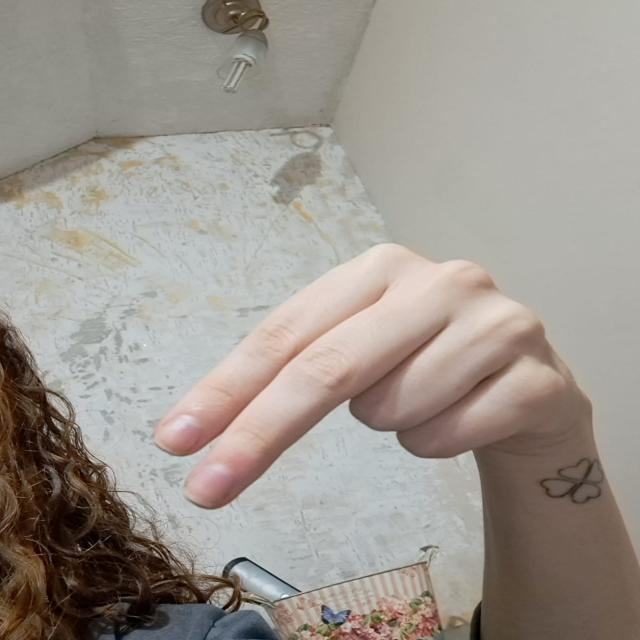N: (136, 234, 600, 514)
